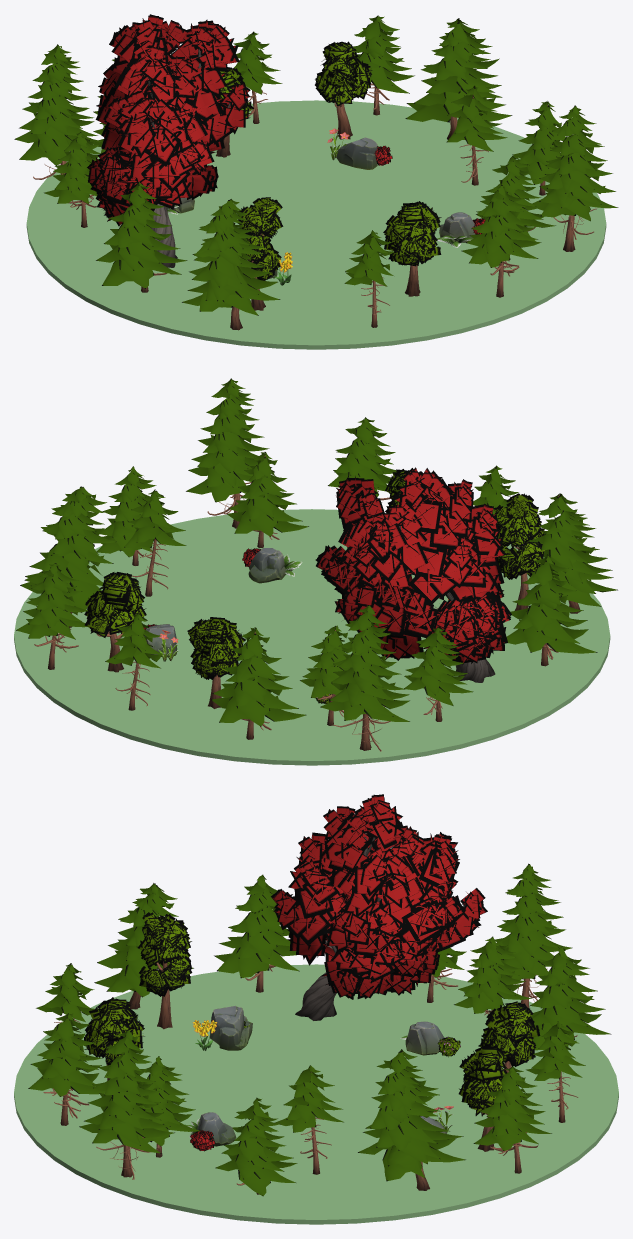
File: arena_nature_meadow.glb
The picture shows the model from 3 angles, top to bottom: view 1: azimuth 30°, elevation 25°; view 2: azimuth 150°, elevation 25°; view 3: azimuth 270°, elevation 25°; orthographic projection. The views are drawn at different scales.
Parts seen in each view (by area): view 1: GroundTerrain, TwistedTree_1_16, Pine_5_31, Pine_4_28, Pine_5_26, Pine_4_22, Pine_2_32, Pine_1_29, CommonTree_1_20, CommonTree_2_15, Pine_1_25, Pine_1_21 (+9 smaller); view 2: GroundTerrain, TwistedTree_1_16, Pine_4_22, Pine_4_28, Pine_5_26, Pine_2_32, Pine_2_23, Pine_5_31, CommonTree_3_18, Pine_2_19, Pine_1_25, CommonTree_2_15 (+10 smaller); view 3: GroundTerrain, TwistedTree_1_16, Pine_5_26, Pine_4_28, Pine_4_22, Pine_2_32, Pine_2_23, Pine_1_29, CommonTree_3_18, Pine_2_27, Pine_1_25, Pine_5_31 (+12 smaller).
Part boxes in pixels (<box>): GroundTerrain: <box>26,100,606,349</box>; TwistedTree_1_16: <box>86,14,250,267</box>; Pine_5_31: <box>182,199,280,330</box>; Pine_4_28: <box>530,105,618,251</box>; Pine_5_26: <box>405,18,512,139</box>; Pine_4_22: <box>14,44,102,179</box>; Pine_2_32: <box>96,182,187,292</box>; Pine_1_29: <box>461,185,541,297</box>; CommonTree_1_20: <box>383,201,441,296</box>; CommonTree_2_15: <box>315,41,372,139</box>; Pine_1_25: <box>353,15,414,115</box>; Pine_1_21: <box>44,132,100,227</box>; GroundTerrain: <box>14,509,610,765</box>; TwistedTree_1_16: <box>315,467,511,682</box>; Pine_4_22: <box>320,605,409,751</box>; Pine_4_28: <box>186,378,271,528</box>; Pine_5_26: <box>20,486,116,627</box>; Pine_2_32: <box>506,554,597,666</box>; Pine_2_23: <box>211,627,306,739</box>; Pine_5_31: <box>528,493,617,613</box>; CommonTree_3_18: <box>493,493,545,610</box>; Pine_2_19: <box>227,452,308,548</box>; Pine_1_25: <box>16,563,87,669</box>; CommonTree_2_15: <box>84,572,146,672</box>; GroundTerrain: <box>14,964,618,1224</box>; TwistedTree_1_16: <box>271,794,487,1020</box>; Pine_5_26: <box>358,1049,465,1190</box>; Pine_4_28: <box>79,1029,174,1179</box>; Pine_4_22: <box>494,863,572,1007</box>; Pine_2_32: <box>214,874,299,992</box>; Pine_2_23: <box>530,946,611,1050</box>; Pine_1_29: <box>28,1013,105,1125</box>; CommonTree_3_18: <box>137,912,192,1029</box>; Pine_2_27: <box>215,1097,297,1196</box>; Pine_1_25: <box>473,1066,551,1173</box>; Pine_5_31: <box>94,883,193,1009</box>.
Bounding box in the file's own units: 48 × 20.23 × 48.
9 materials, 8 textured.
